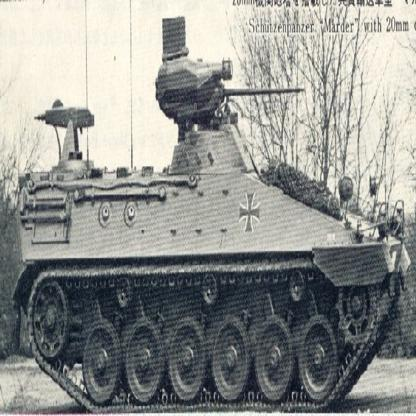Tank: (11, 29, 410, 416)
